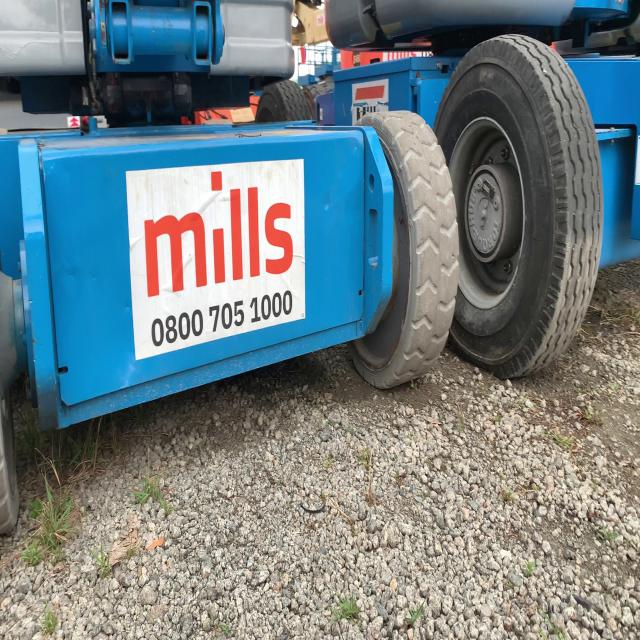Adesivos: (125, 157, 306, 362)
